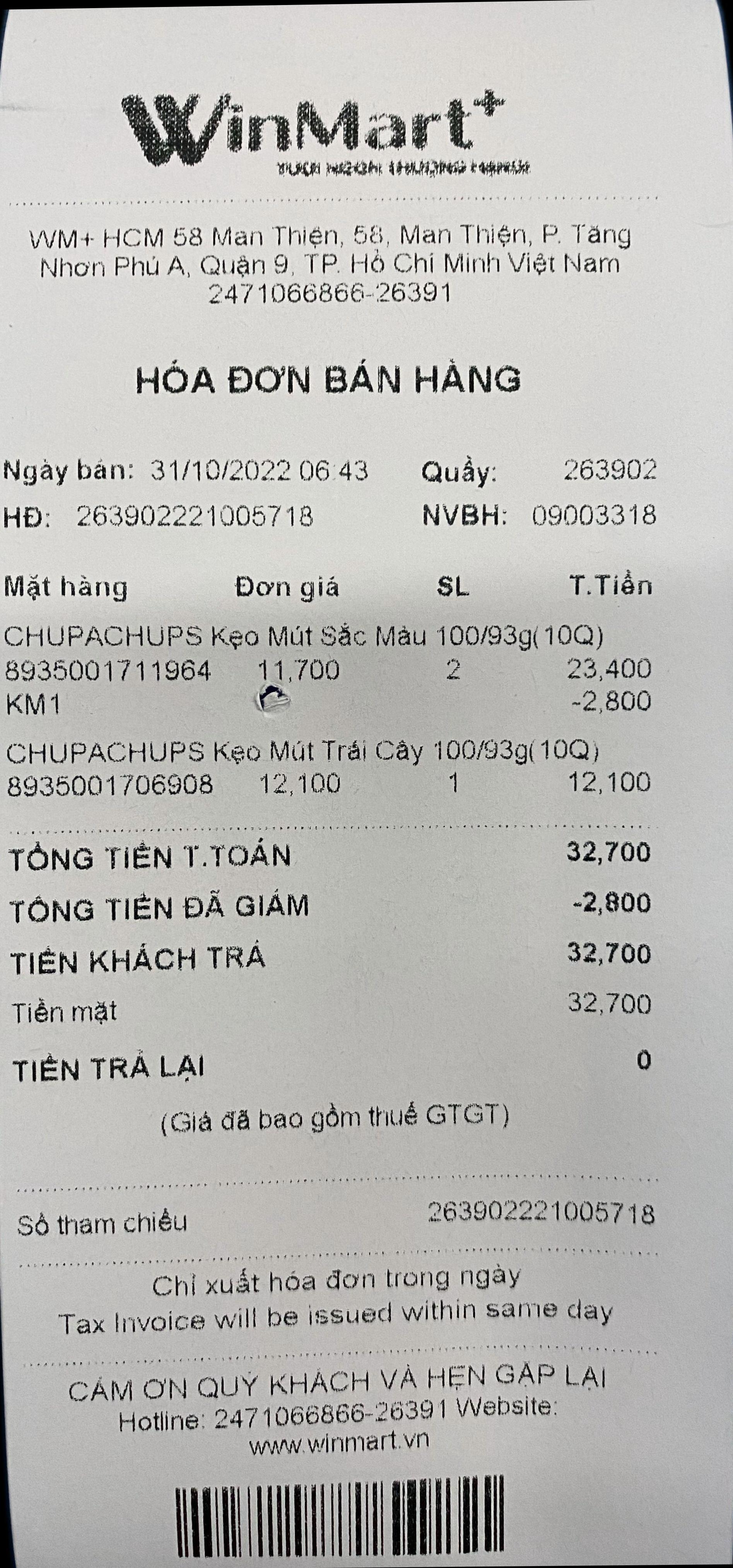Date: (145, 451, 300, 490)
Store_Name: (114, 89, 592, 185)
Total_Amount: (0, 832, 662, 890)
